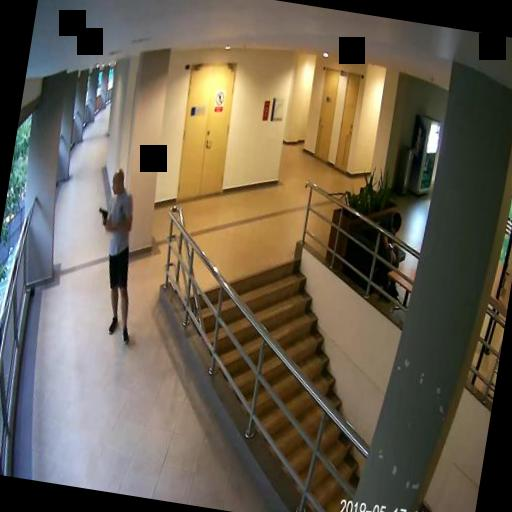Handgun: (95, 206, 108, 224)
